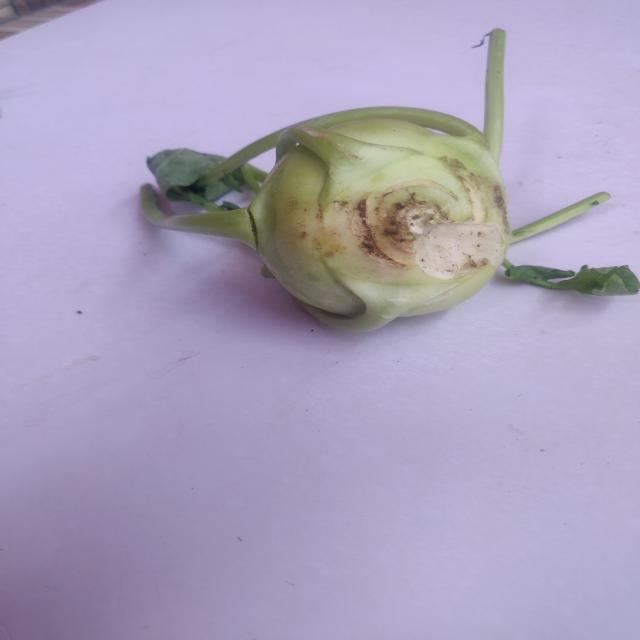Turnip: (147, 84, 576, 354)
